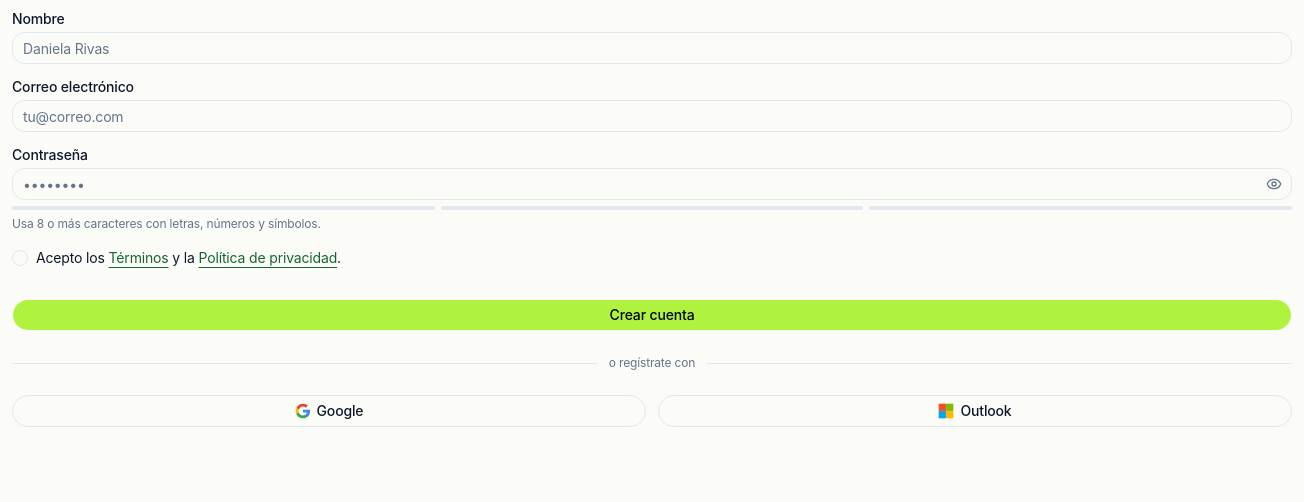
Scenario: auth password error handling › renders Clerk field and general errors after a rejected sign-up
The image size is (1304, 502).
Type "Ana" into the field labelled "Nombre". click: [652, 48]
box: 12,32 -> 1292,64
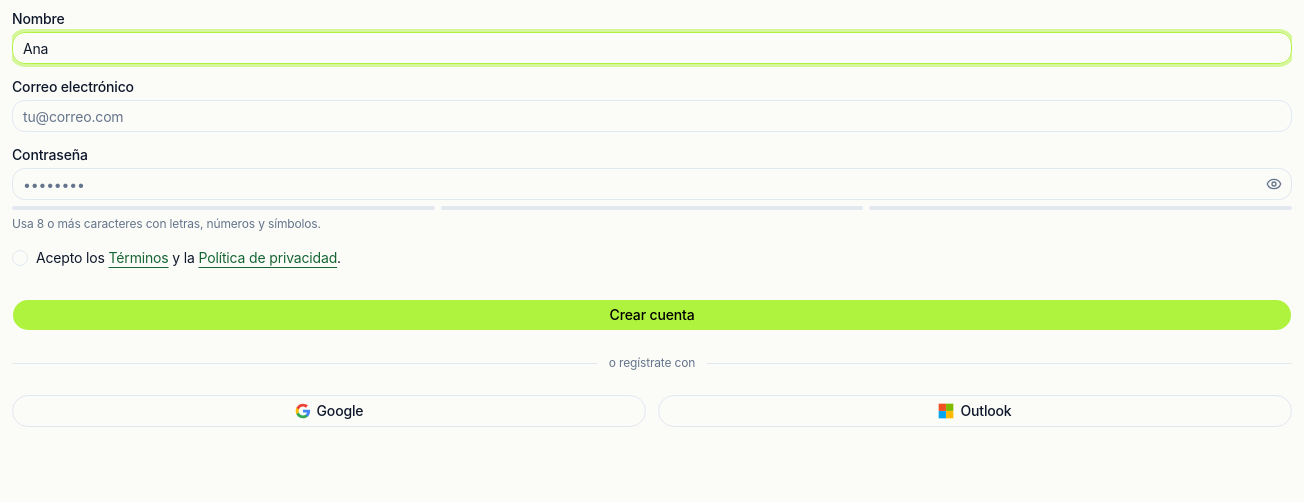
Type "ana@example.com" into the field labelled "Correo electrónico". click: [652, 116]
box: 12,100 -> 1292,132
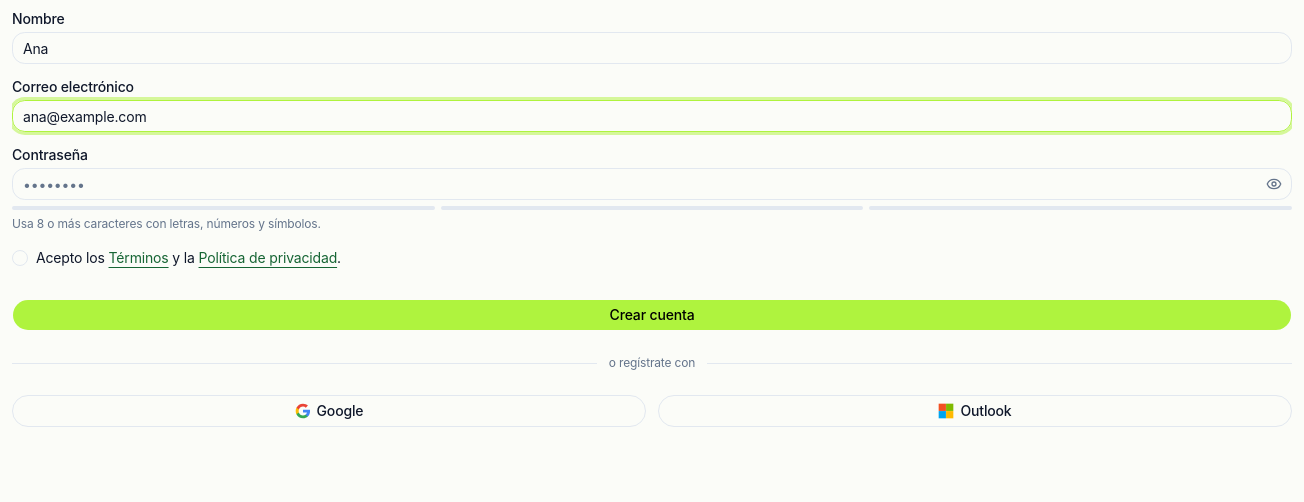
Type "secreto12" into the password field labelled "Contraseña". click: [652, 184]
box: 12,168 -> 1292,200
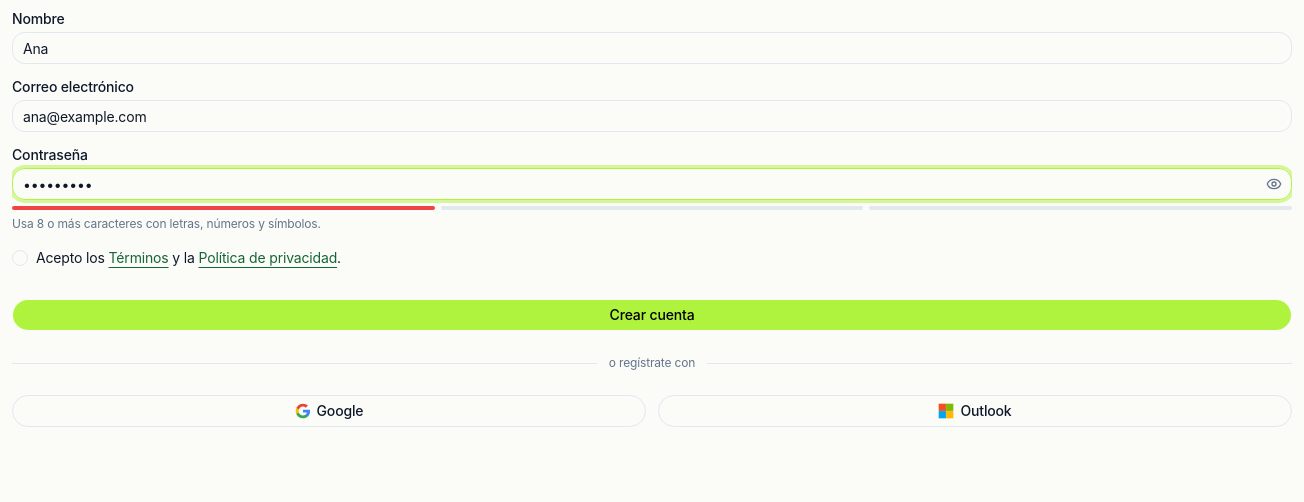
Click the checkbox named "acepto los términos". click: [20, 258]
box: 12,250 -> 28,266
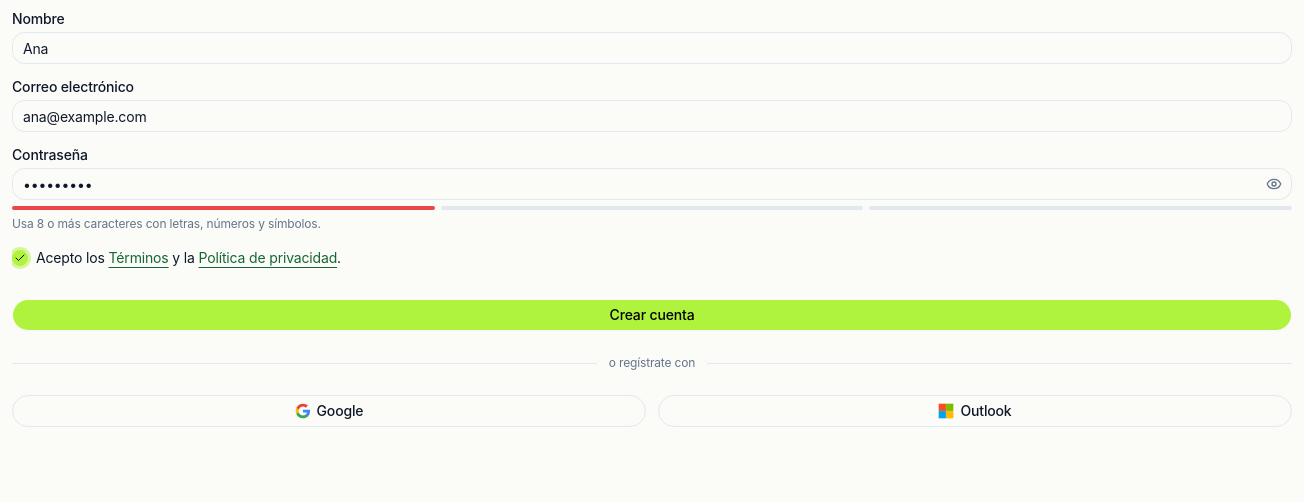
Click the button "Crear cuenta". click: [652, 315]
box: 12,299 -> 1292,331
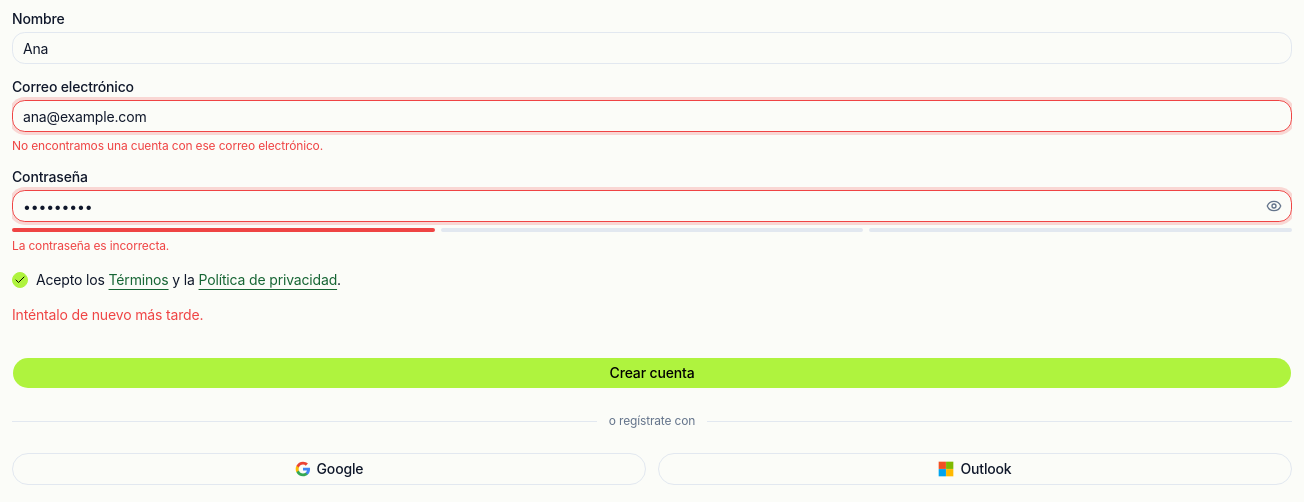
Expected: the text "No encontramos una cuenta con ese correo electrónico." is shown, 12,138 -> 323,153
Expected: the text "La contraseña es incorrecta." is shown, 12,238 -> 169,253
Expected: the text "Inténtalo de nuevo más tarde." is shown, 12,306 -> 203,323
